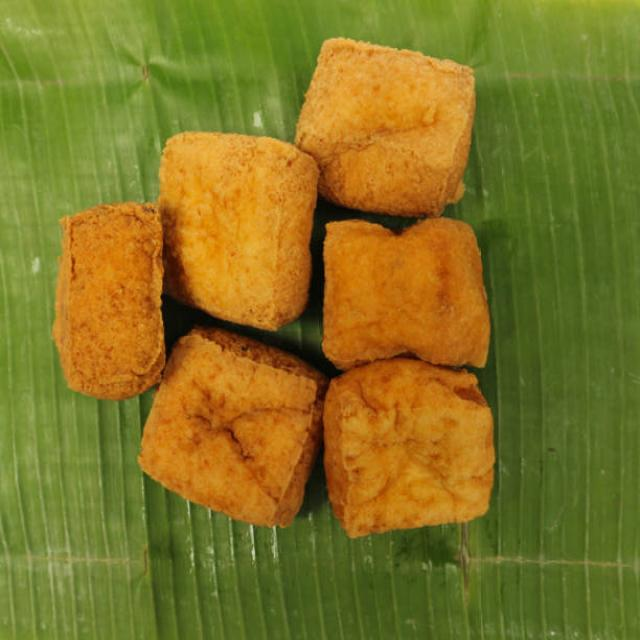Tofu Block: (156, 126, 316, 326), (305, 35, 479, 218), (322, 361, 495, 535), (164, 330, 319, 524), (323, 212, 492, 368), (57, 208, 166, 400)
